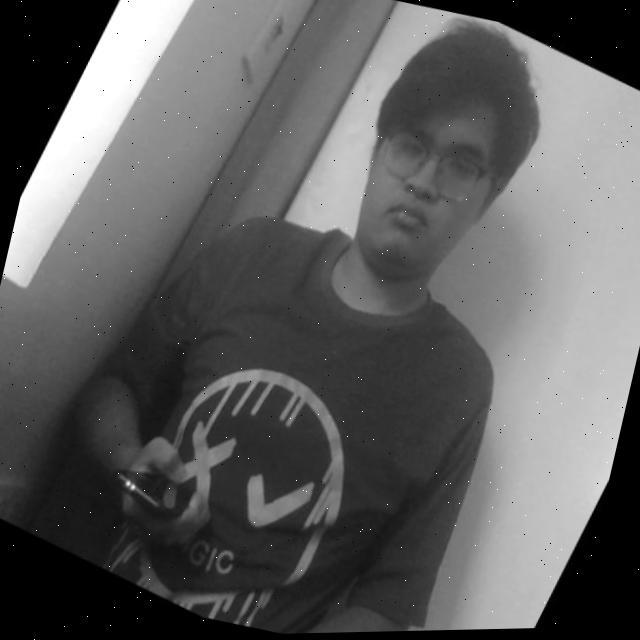phone: (85, 423, 214, 554)
